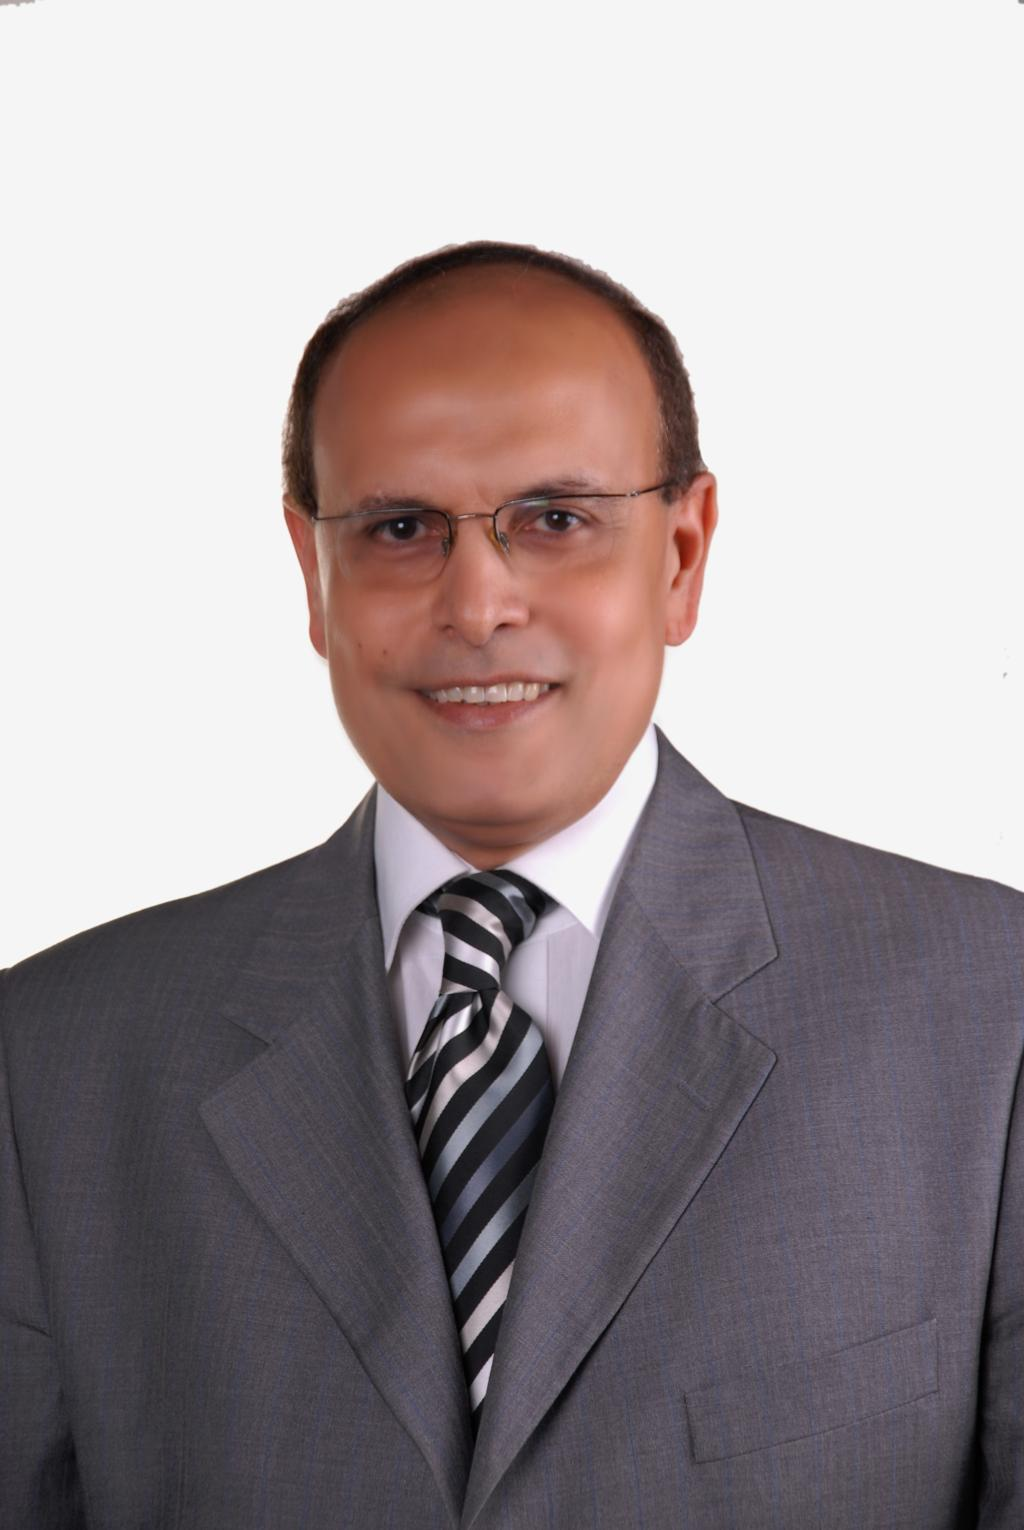face: (316, 328, 671, 821)
